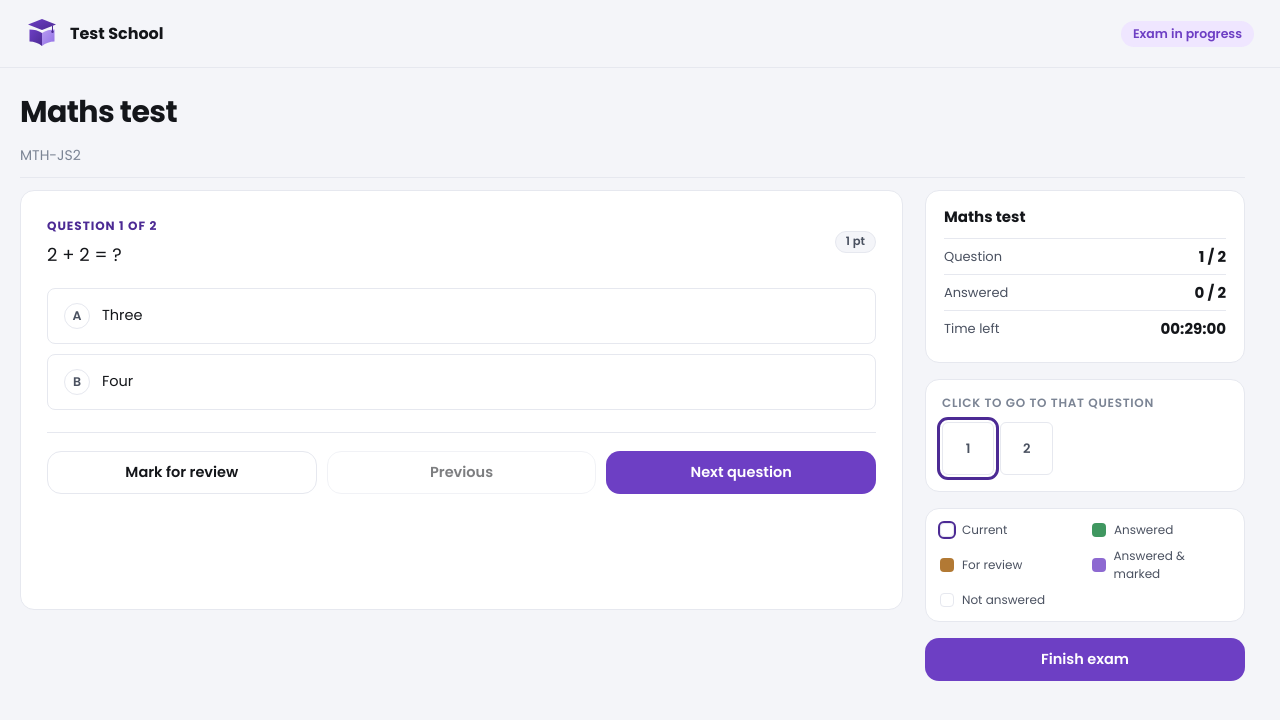
Test: submitting sends the paper, shows the score and clears the device copy
Check: the text "2 + 2 = ?" is shown, box [47,242,122,267]
Click the radio button labelled "B Four" at [118, 381], box [47,354,876,410]
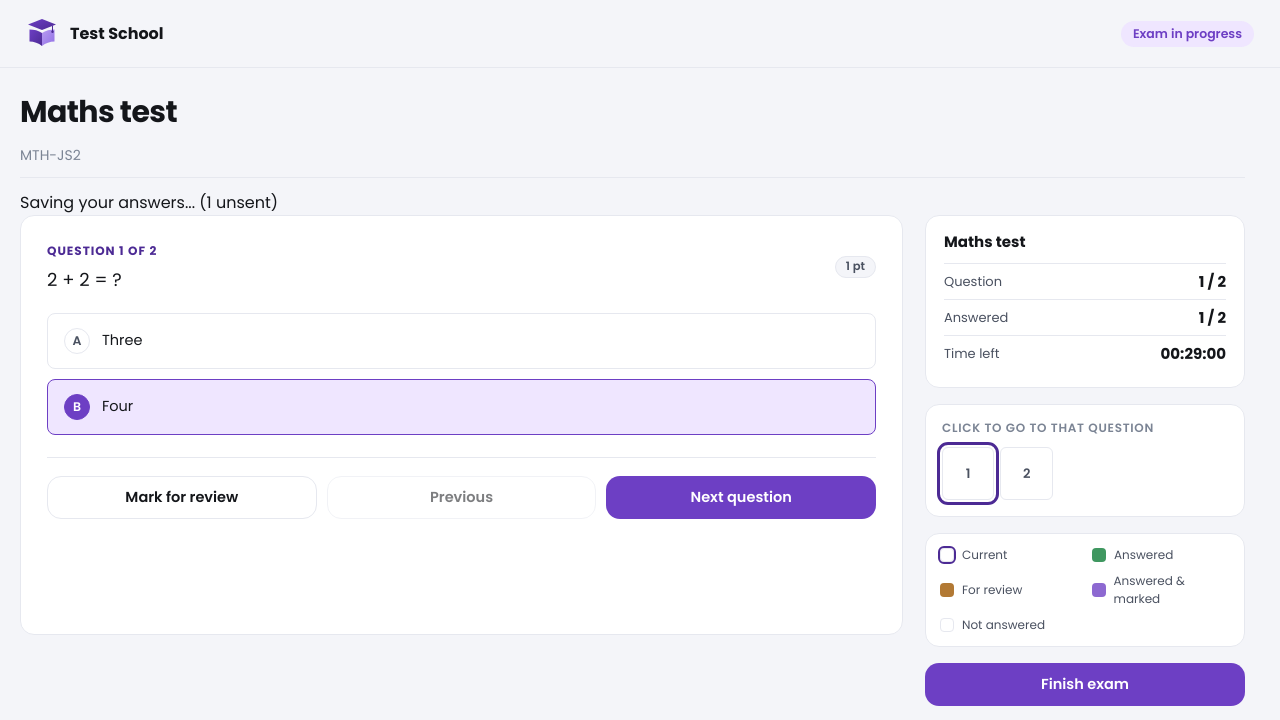
Click the button "Finish exam" at [1085, 684], box [925,663,1245,706]
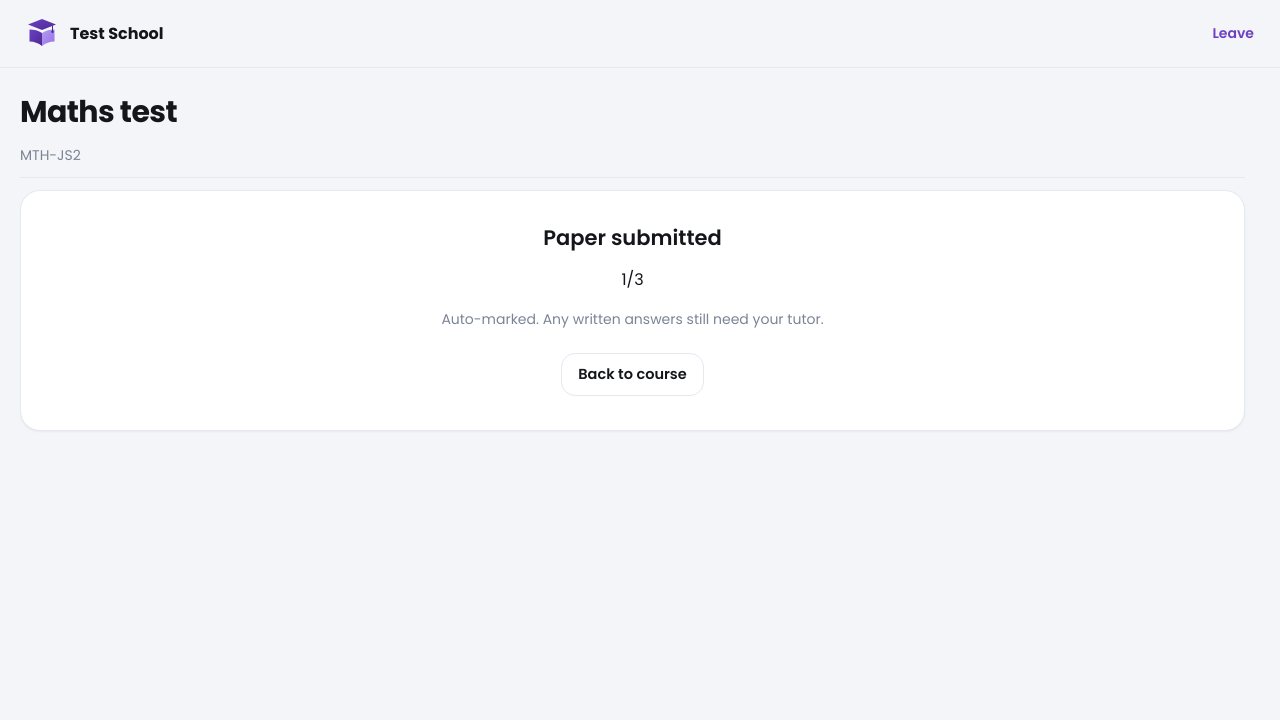
Check: the heading "Paper submitted" is shown, box [543,223,722,252]
Check: the text "1/3" is shown, box [621,267,644,292]
